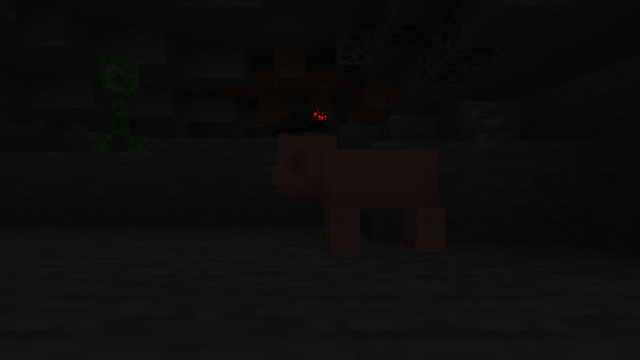araignees: (280, 104, 326, 137)
cochons: (324, 144, 438, 256)
creepers: (87, 52, 148, 136)
